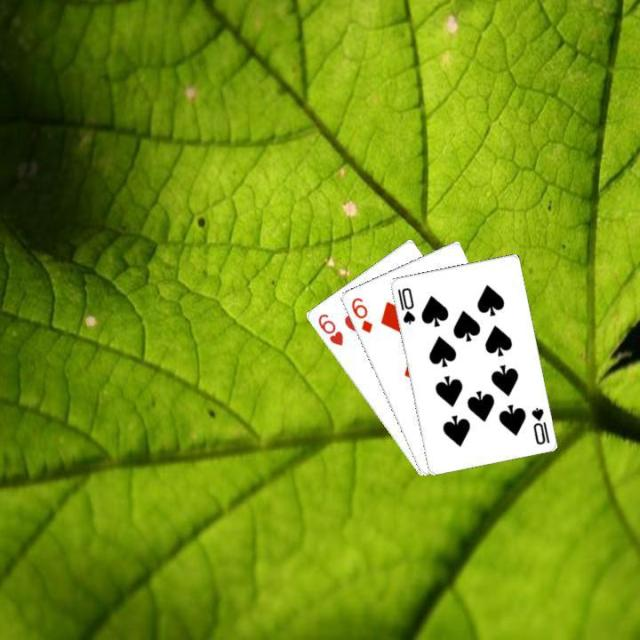10S: (527, 403, 551, 446), (393, 284, 417, 326)
6D: (347, 294, 374, 334)
6H: (314, 310, 345, 348)
